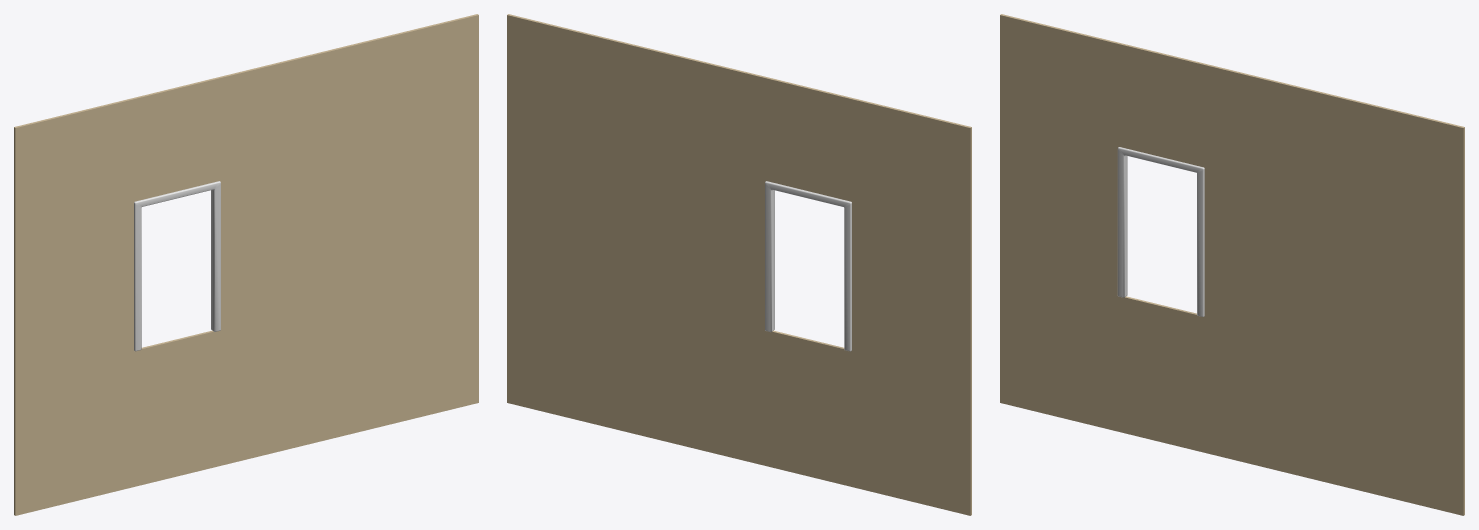
File: wallN.fbx
3 views of the same model, side by side, from view 1: azimuth 30°, elevation 25°; view 2: azimuth 150°, elevation 25°; view 3: azimuth 330°, elevation 25° (orthographic).
Visible parts, largest first — view 1: wallN, door_frame; view 2: wallN, door_frame; view 3: wallN, door_frame.
Part boxes in pixels (bbox=[...]): wallN: bbox=[14, 14, 478, 515]; door_frame: bbox=[134, 181, 220, 351]; wallN: bbox=[507, 14, 971, 515]; door_frame: bbox=[765, 181, 851, 351]; wallN: bbox=[1000, 14, 1464, 515]; door_frame: bbox=[1117, 147, 1204, 316].
Bounding box in the file's own units: 646 × 517 × 9.53.
